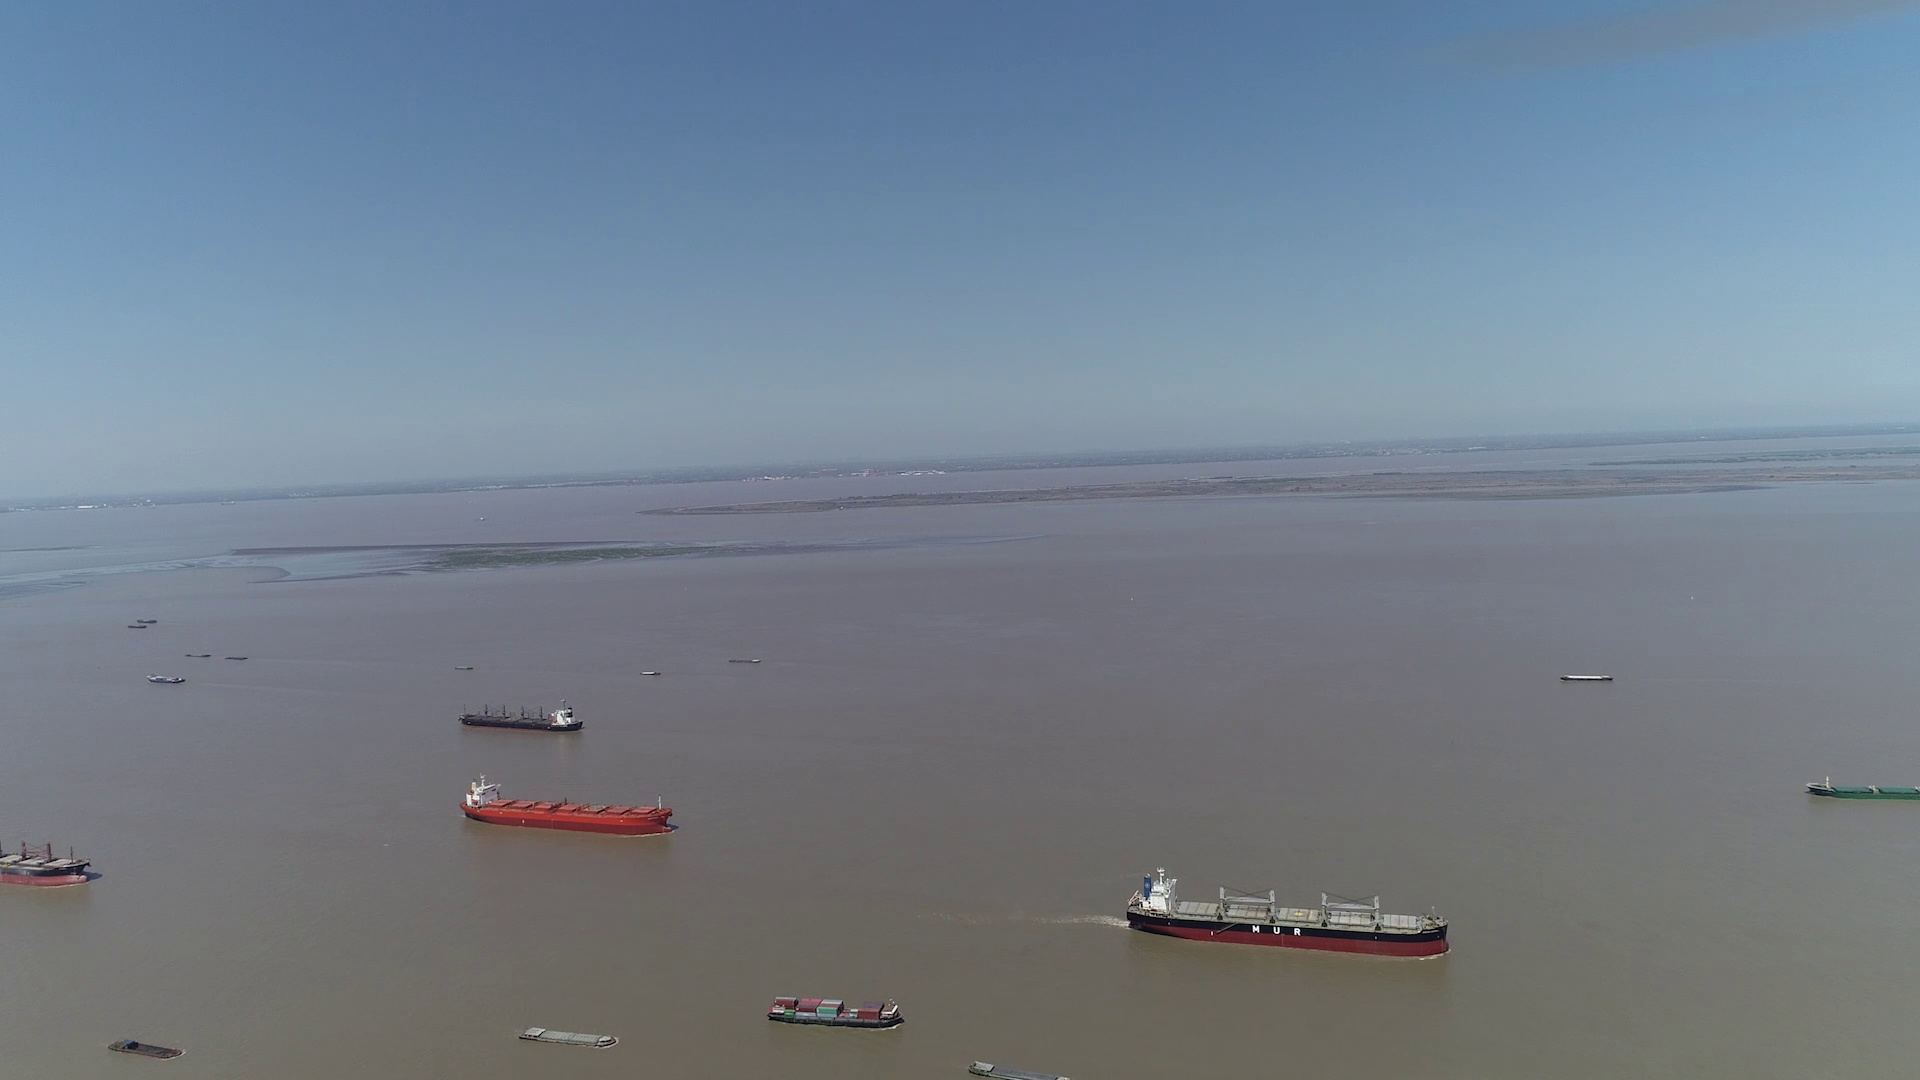ship: (1127, 868, 1449, 957), (462, 771, 673, 835), (1, 831, 94, 887), (765, 996, 905, 1030), (459, 702, 584, 733), (1805, 778, 1919, 800), (520, 1025, 618, 1047), (969, 1060, 1071, 1080), (108, 1038, 179, 1059), (1561, 674, 1614, 683), (148, 674, 185, 684)
